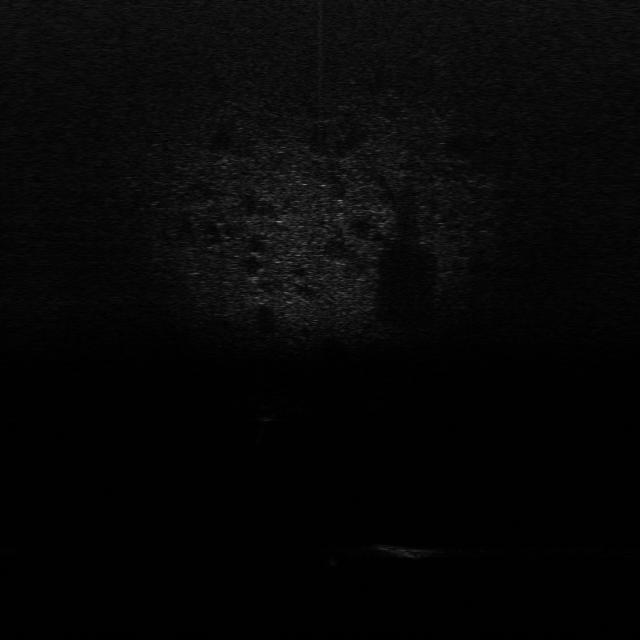ball: (250, 400, 280, 422)
metal bucket: (343, 541, 439, 562)
